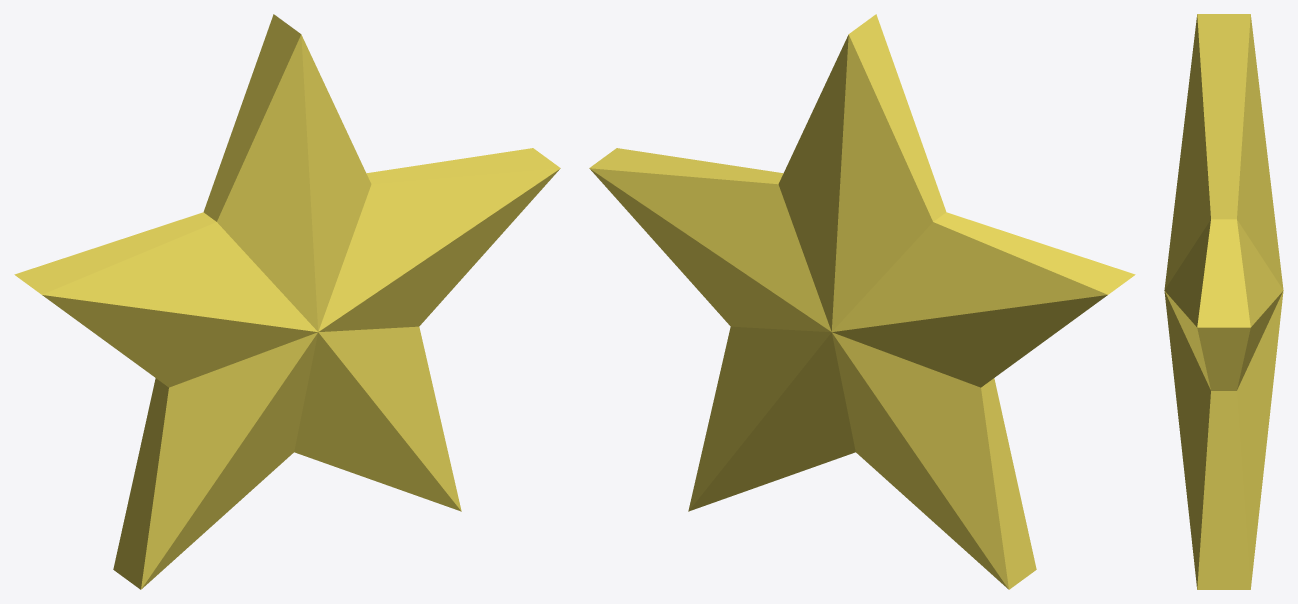
Rendered from Env_Bintang_01a.fbx.
3 views of the same model, side by side, from view 1: azimuth 30°, elevation 25°; view 2: azimuth 150°, elevation 25°; view 3: azimuth 270°, elevation 25° (orthographic). The views are drawn at different scales.
Parts seen in each view (by area): view 1: Bintang; view 2: Bintang; view 3: Bintang.
Part boxes in pixels (x1,y1,x2,y2): Bintang: (14,14,560,589); Bintang: (589,14,1135,589); Bintang: (1164,14,1283,589).
Bounding box in the file's own units: 88.35 × 84.03 × 18.13.
